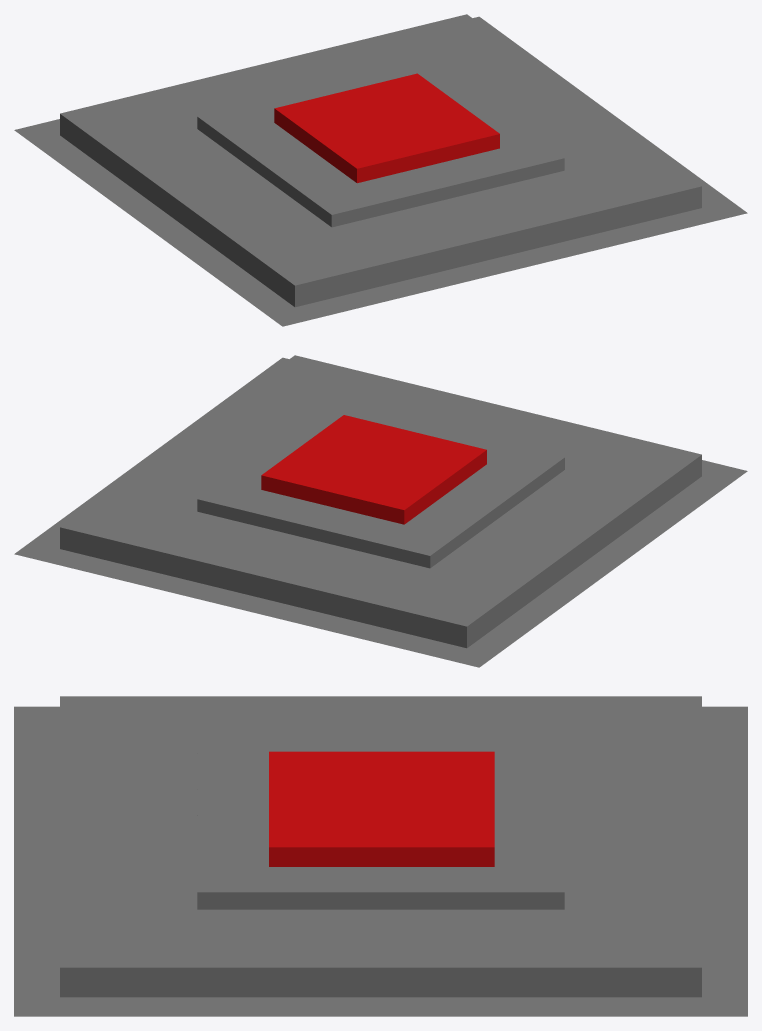
The model's file is Knopf_gedrückt.fbx.
3 renders of one model, top to bottom at view 1: azimuth 30°, elevation 25°; view 2: azimuth 150°, elevation 25°; view 3: azimuth 270°, elevation 25°, orthographic. The views are drawn at different scales.
Visible parts, largest first — view 1: Cube; view 2: Cube; view 3: Cube.
Part boxes in pixels (left/top/right/bottom): Cube: left=14, top=14, right=747, bottom=326; Cube: left=14, top=355, right=747, bottom=667; Cube: left=14, top=696, right=747, bottom=1016.
Size of the model in its own units: 100 by 10 by 100.
